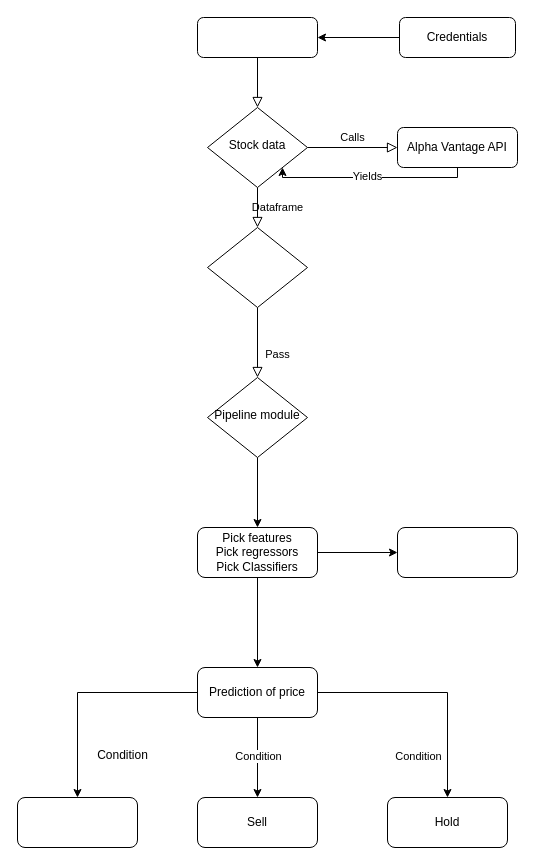
This 535x865 diagram has some shape labels left out. The shapes that lost their labels are listed below. From the top down, each one's centre as x and y in pixels, then its label:
At [257,37]: "API Connector".
At [257,267]: "Feature module".
At [457,552]: "Plotting of Time series data Feature selection".
At [77,822]: "Buy".
